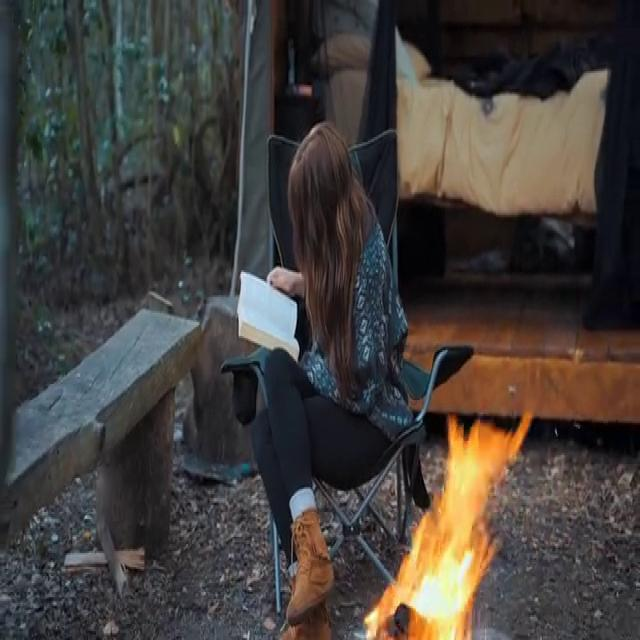Fire: (374, 421, 524, 640)
